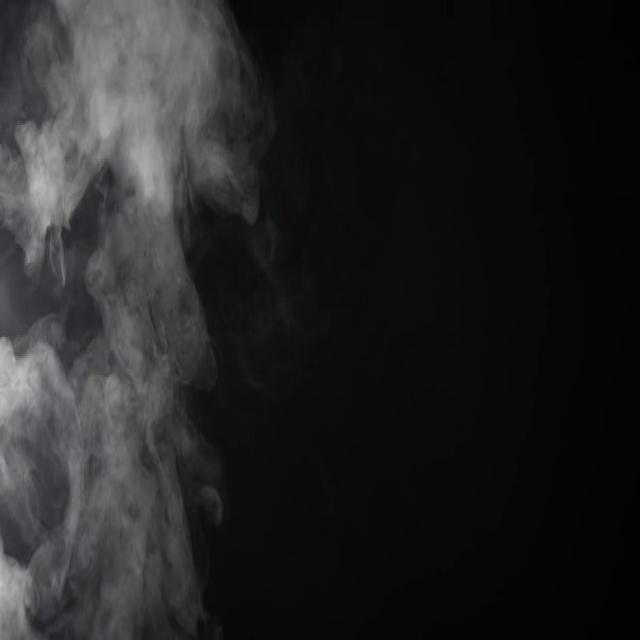smoke: (2, 0, 148, 295), (2, 253, 220, 414), (137, 1, 276, 231), (98, 404, 224, 638), (0, 394, 101, 640)
